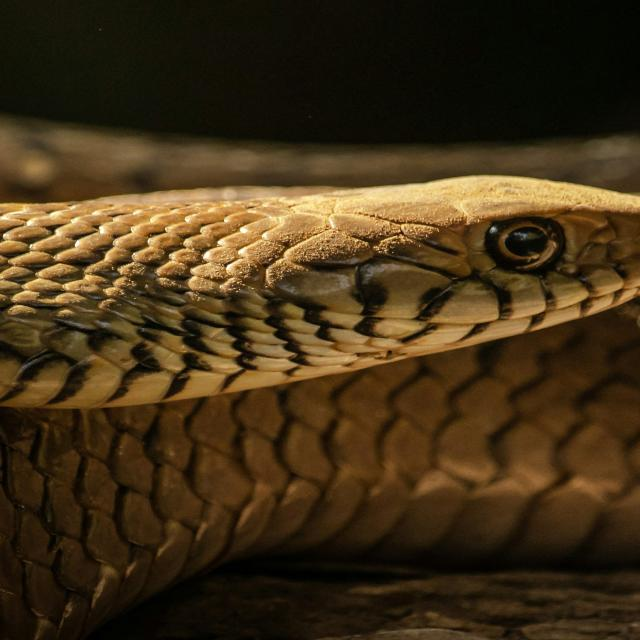Snake: (0, 168, 640, 640)
